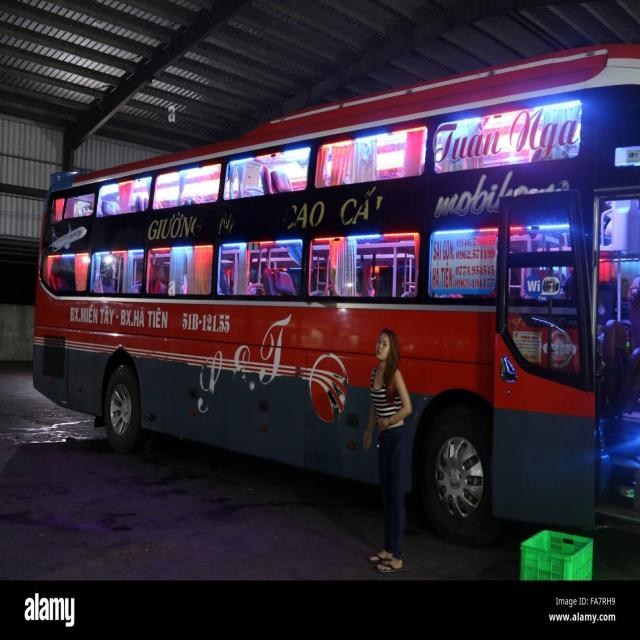bus: (34, 46, 640, 543)
